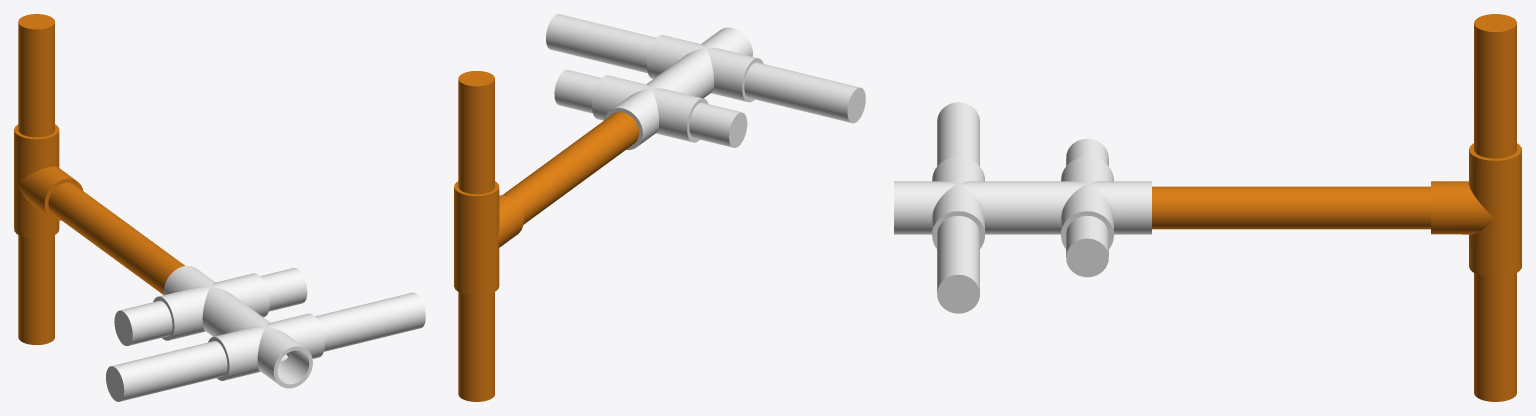
The model's file is uchwyt_update (1).obj.
3 renders of one model, left to right at view 1: azimuth 30°, elevation 25°; view 2: azimuth 150°, elevation 25°; view 3: azimuth 270°, elevation 25°, orthographic. The views are drawn at different scales.
Parts seen in each view (by area): view 1: Bryła1, Bryła8, Bryła2, Bryła9, Bryła10, Bryła7, Bryła11, Bryła6, Bryła5, Bryła4; view 2: Bryła9, Bryła2, Bryła8, Bryła1, Bryła7, Bryła10, Bryła11, Bryła6, Bryła5, Bryła4; view 3: Bryła8, Bryła9, Bryła1, Bryła2, Bryła10, Bryła11, Bryła6, Bryła7, Bryła4, Bryła5.
Part boxes in pixels (left/top/right/bottom): Bryła1: left=208, top=306, right=324, bottom=388; Bryła8: left=48, top=182, right=184, bottom=294; Bryła2: left=153, top=266, right=269, bottom=340; Bryła9: left=14, top=124, right=83, bottom=238; Bryła10: left=18, top=14, right=54, bottom=137; Bryła7: left=106, top=341, right=227, bottom=401; Bryła11: left=18, top=235, right=54, bottom=344; Bryła6: left=286, top=292, right=425, bottom=356; Bryła5: left=114, top=300, right=172, bottom=345; Bryła4: left=260, top=268, right=307, bottom=311; Bryła9: left=454, top=181, right=523, bottom=295; Bryła2: left=592, top=67, right=708, bottom=149; Bryła8: left=502, top=112, right=639, bottom=224; Bryła1: left=647, top=27, right=763, bottom=102; Bryła7: left=744, top=62, right=865, bottom=123; Bryła10: left=458, top=71, right=494, bottom=194; Bryła11: left=458, top=292, right=494, bottom=401; Bryła6: left=546, top=14, right=656, bottom=73; Bryła5: left=689, top=102, right=747, bottom=147; Bryła4: left=554, top=70, right=601, bottom=113; Bryła8: left=1152, top=186, right=1430, bottom=229; Bryła9: left=1431, top=143, right=1521, bottom=277; Bryła1: left=894, top=156, right=1022, bottom=248; Bryła2: left=1023, top=156, right=1151, bottom=248; Bryła10: left=1474, top=14, right=1516, bottom=158; Bryła11: left=1474, top=273, right=1516, bottom=401; Bryła6: left=937, top=215, right=979, bottom=313; Bryła7: left=937, top=102, right=979, bottom=166; Bryła4: left=1066, top=215, right=1108, bottom=277; Bryła5: left=1066, top=138, right=1108, bottom=166.
Bounding box in the file's own units: 241 × 241 × 371.
